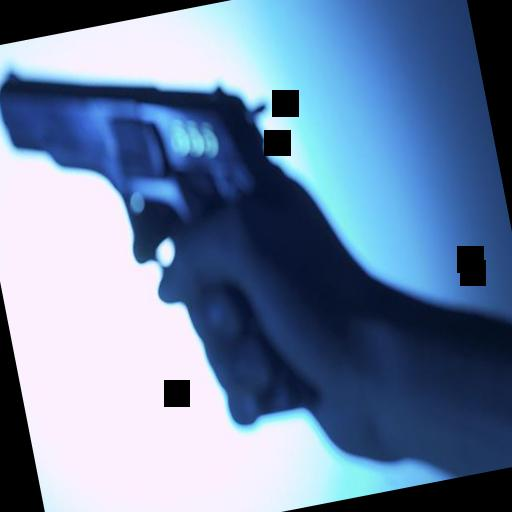Handgun: (0, 14, 329, 464)
